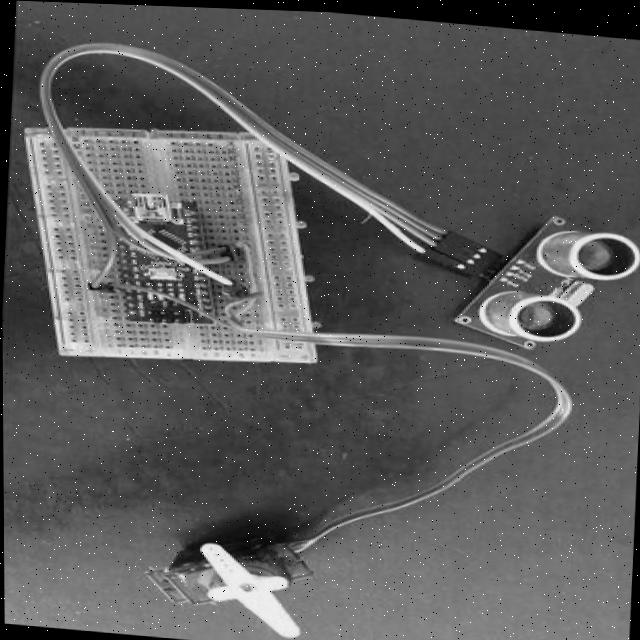Ultrasonic Sensor: (448, 203, 640, 357)
